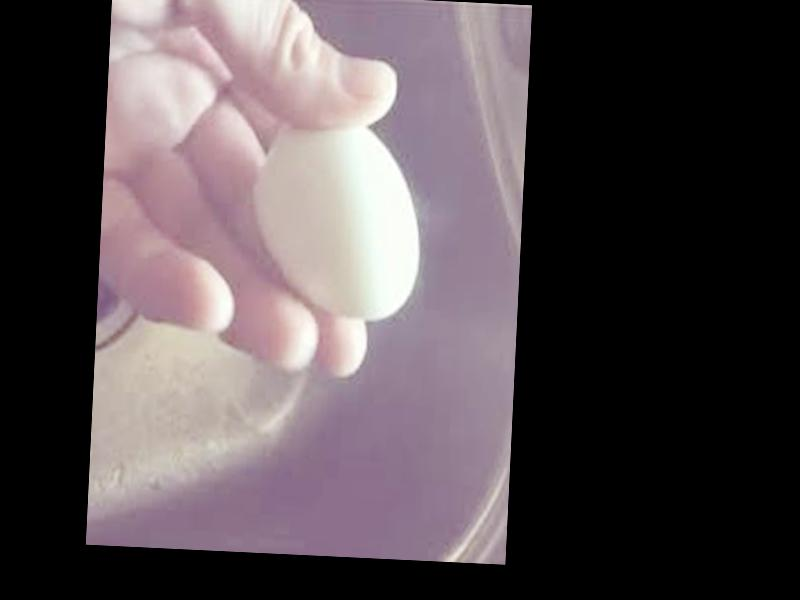Eggs: (253, 117, 425, 318)
